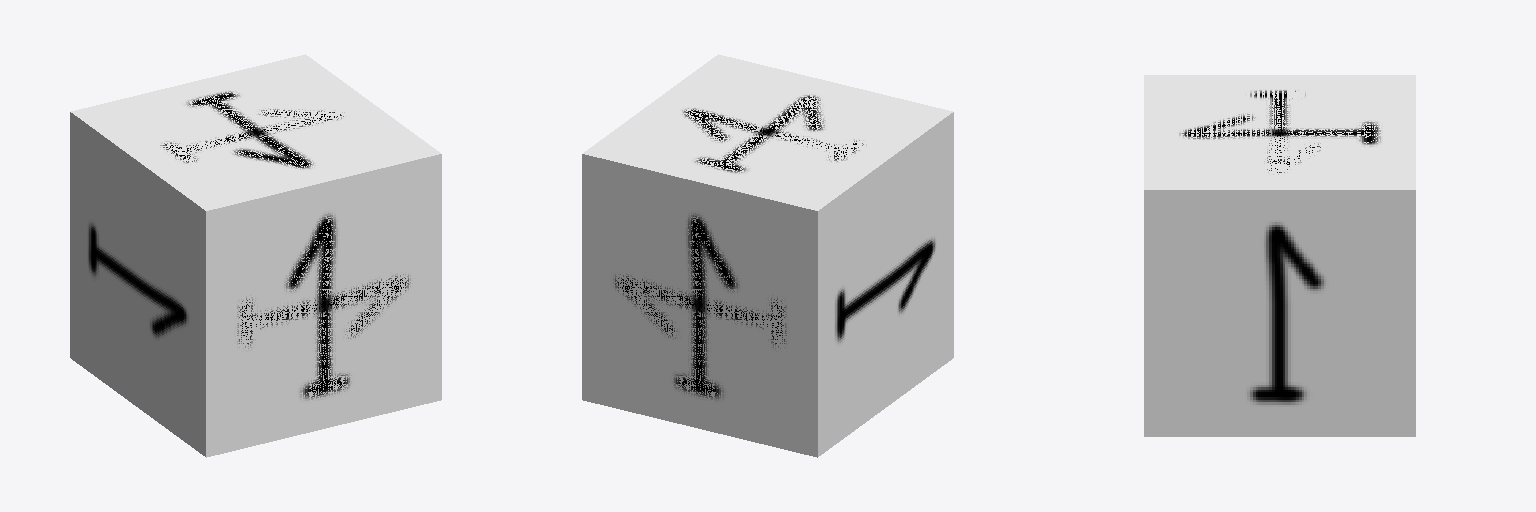
3 renders of one model, left to right at view 1: azimuth 30°, elevation 25°; view 2: azimuth 150°, elevation 25°; view 3: azimuth 270°, elevation 25°, orthographic.
Visible parts, largest first — view 1: Cube; view 2: Cube; view 3: Cube.
Part boxes in pixels (left/top/right/bottom): Cube: left=70, top=54, right=441, bottom=457; Cube: left=582, top=54, right=953, bottom=457; Cube: left=1144, top=75, right=1415, bottom=436.
Bounding box in the file's own units: 1 × 1 × 1.
1 materials, 1 textured.